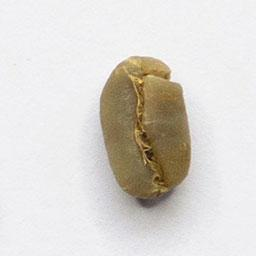peaberry: (96, 53, 196, 203)
